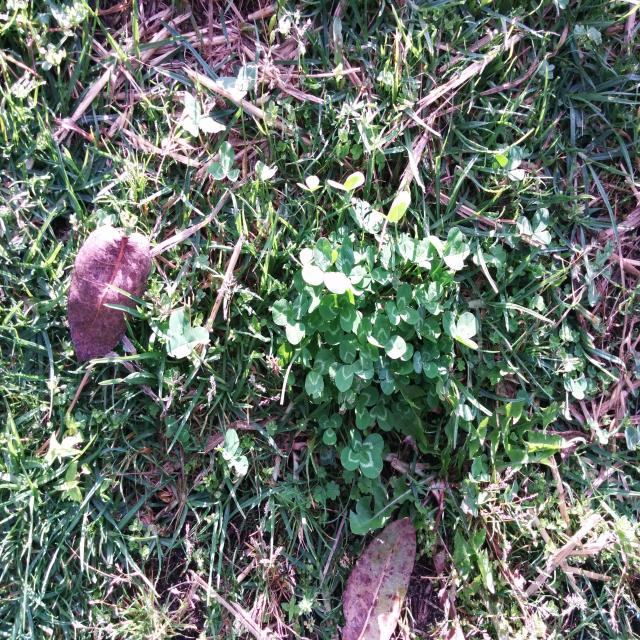Four Leaf Clover: (340, 429, 384, 479)
